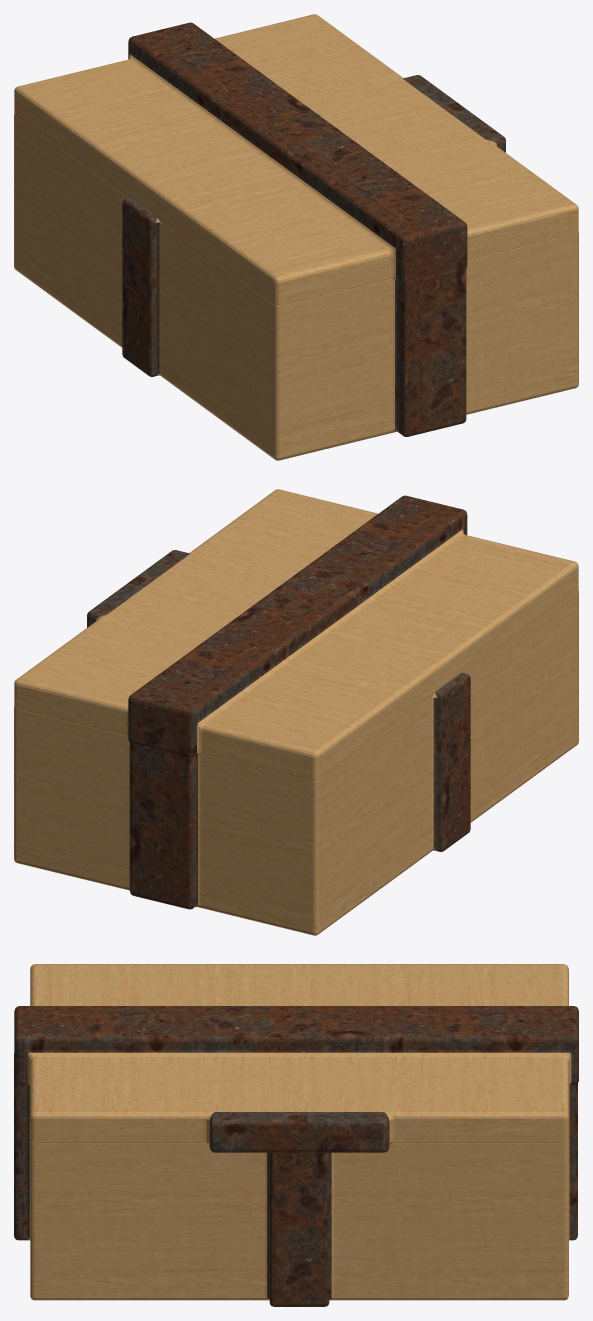
The model's file is Crate_2.fbx.
The picture shows the model from 3 angles, top to bottom: view 1: azimuth 30°, elevation 25°; view 2: azimuth 150°, elevation 25°; view 3: azimuth 270°, elevation 25°; orthographic projection. The views are drawn at different scales.
Visible parts, largest first — view 1: CrateLid, CrateBase; view 2: CrateLid, CrateBase; view 3: CrateLid, CrateBase.
Part boxes in pixels (x1=…): CrateLid: x1=14, y1=14, x2=578, y2=305; CrateBase: x1=14, y1=115, x2=578, y2=460; CrateLid: x1=14, y1=489, x2=578, y2=780; CrateBase: x1=14, y1=590, x2=578, y2=935; CrateLid: x1=14, y1=964, x2=578, y2=1152; CrateBase: x1=14, y1=1053, x2=577, y2=1306.
Size of the model in its own units: 216 by 126 by 315.
Materials: 3 (2 with a texture image).
